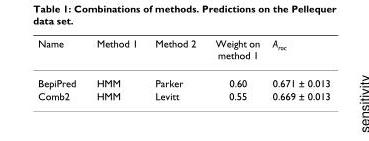table: (37, 37, 329, 101)
table column: (265, 37, 329, 101), (85, 37, 145, 101), (145, 37, 205, 101), (205, 37, 265, 101), (37, 37, 85, 101)
table column header: (37, 37, 329, 68)
table row: (37, 37, 329, 68), (37, 68, 329, 89), (37, 89, 329, 101)
